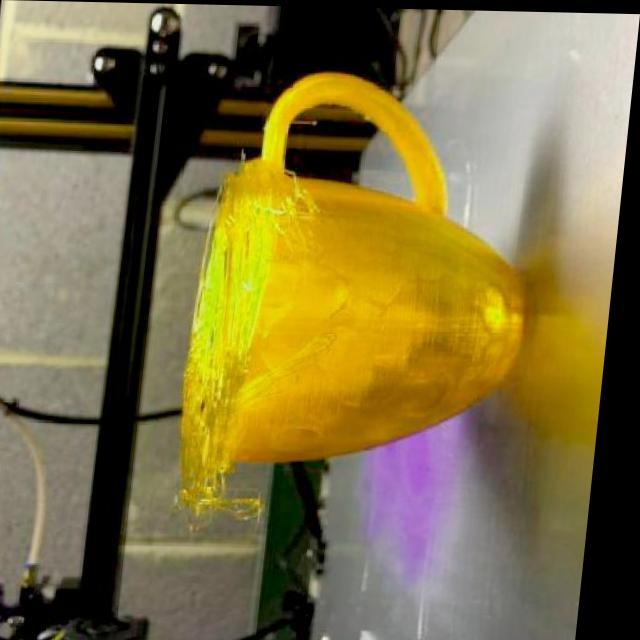spaghetti: (176, 147, 326, 534)
